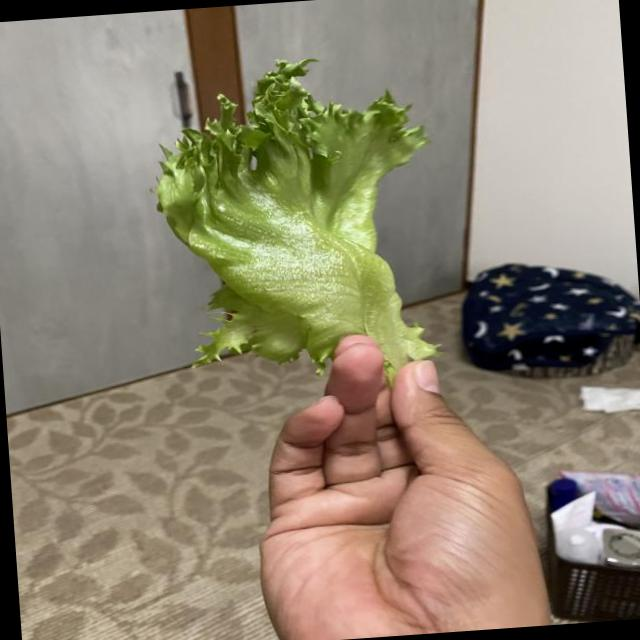Lettuce-Ready-to-Harvest: (156, 59, 435, 374)
